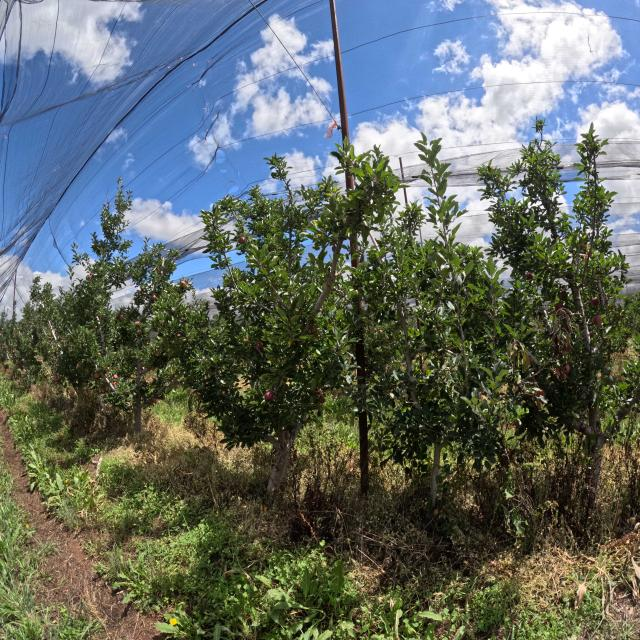-FireBlight-: (506, 337, 548, 407), (549, 306, 583, 383)
